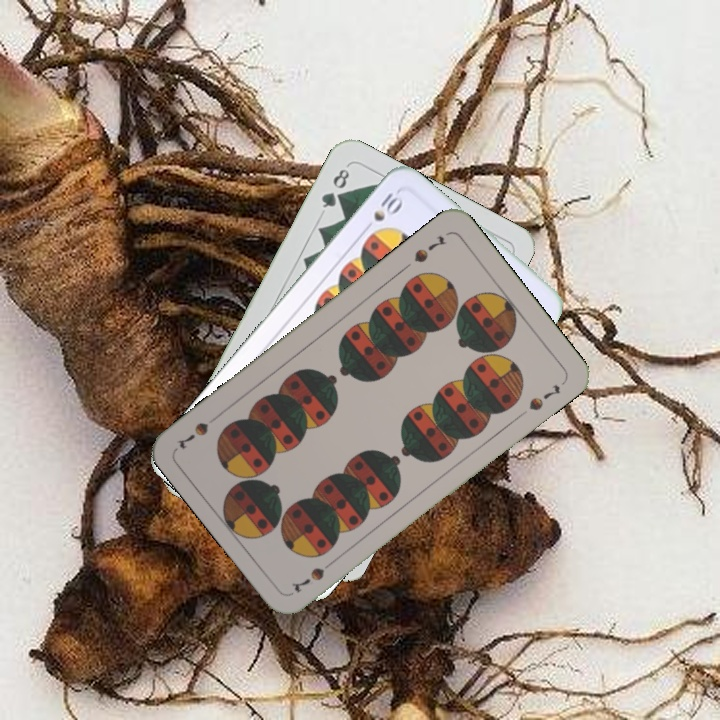G8: (317, 164, 352, 211)
S10: (369, 187, 406, 224)
S7: (287, 555, 339, 596), (409, 231, 449, 265)
